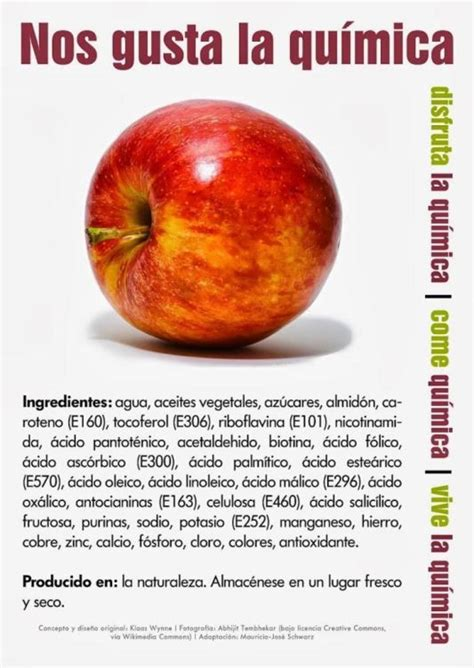apple: (78, 96, 348, 355)
